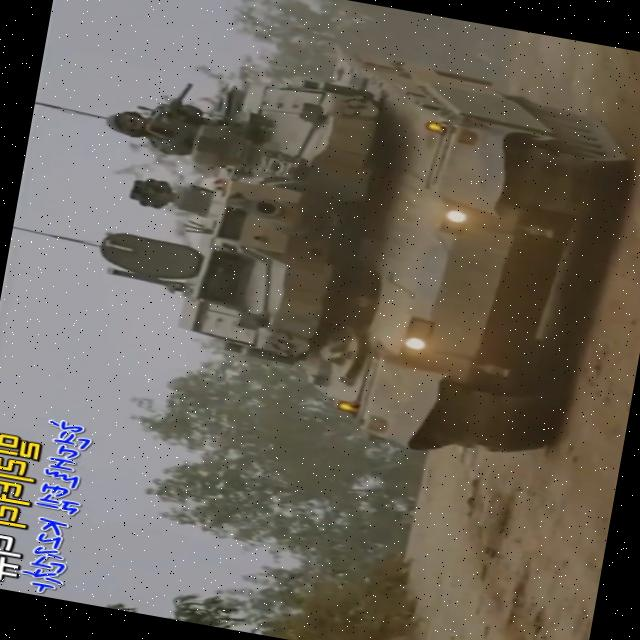korea tank: (56, 11, 636, 478)
